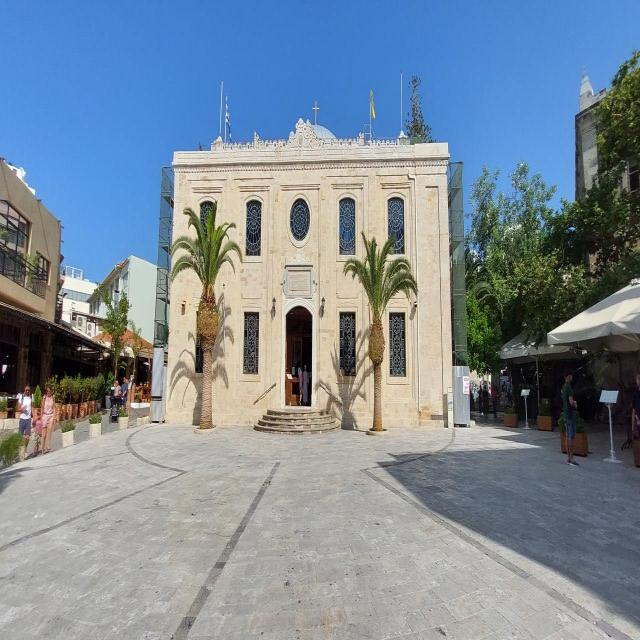Agios Titos: (176, 130, 456, 429)
